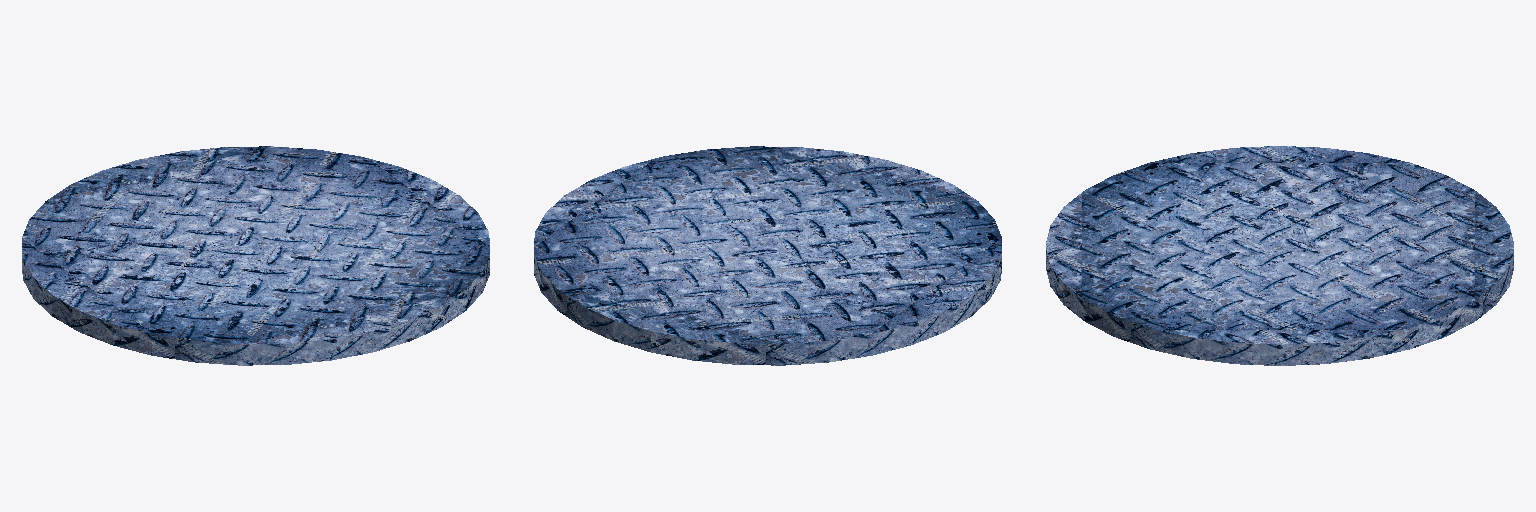
3 views of the same model, side by side, from view 1: azimuth 30°, elevation 25°; view 2: azimuth 150°, elevation 25°; view 3: azimuth 270°, elevation 25° (orthographic).
Parts seen in each view (by area): view 1: Cilindro; view 2: Cilindro; view 3: Cilindro.
Part boxes in pixels (x1,y1,x2,y2): Cilindro: (22,146,489,365); Cilindro: (534,146,1001,365); Cilindro: (1046,146,1513,365).
Bounding box in the file's own units: 9.6 × 0.4836 × 9.56.
1 materials, 1 textured.